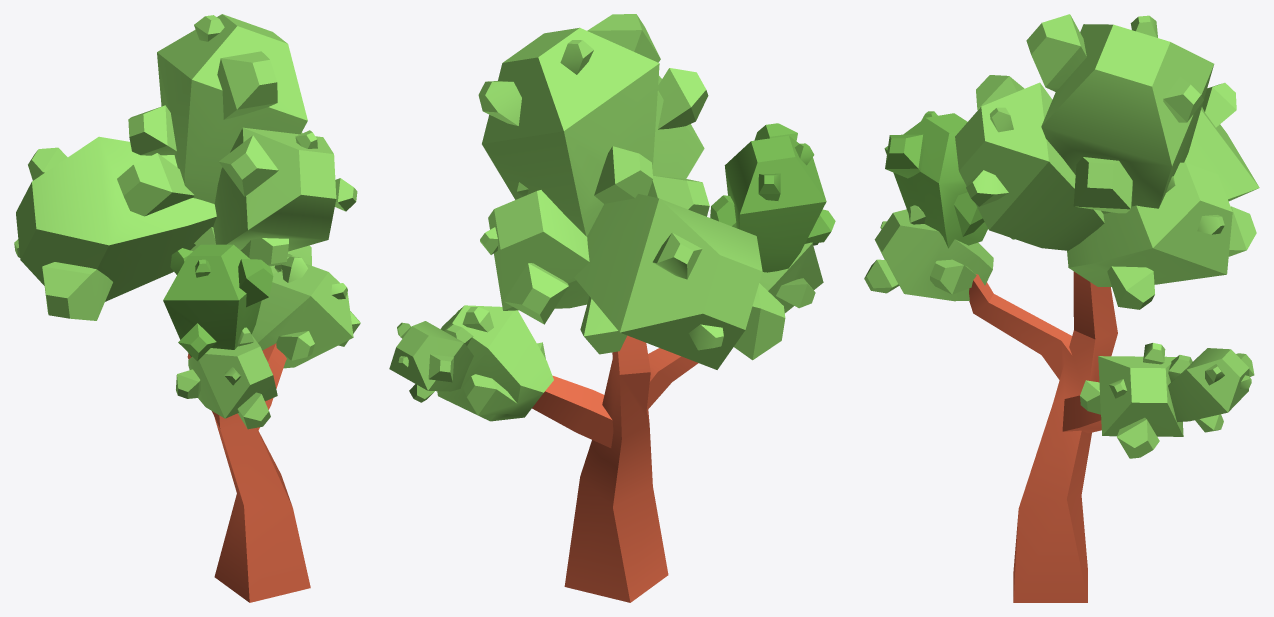
The model's file is tree.glb.
3 renders of one model, left to right at view 1: azimuth 30°, elevation 25°; view 2: azimuth 150°, elevation 25°; view 3: azimuth 270°, elevation 25°, orthographic. The views are drawn at different scales.
Visible parts, largest first — view 1: Tree; view 2: Tree; view 3: Tree.
Part boxes in pixels (bbox=[...]): Tree: bbox=[14, 14, 360, 602]; Tree: bbox=[389, 14, 835, 602]; Tree: bbox=[864, 14, 1259, 602].
Bounding box in the file's own units: 10.59 × 16.73 × 10.6.
